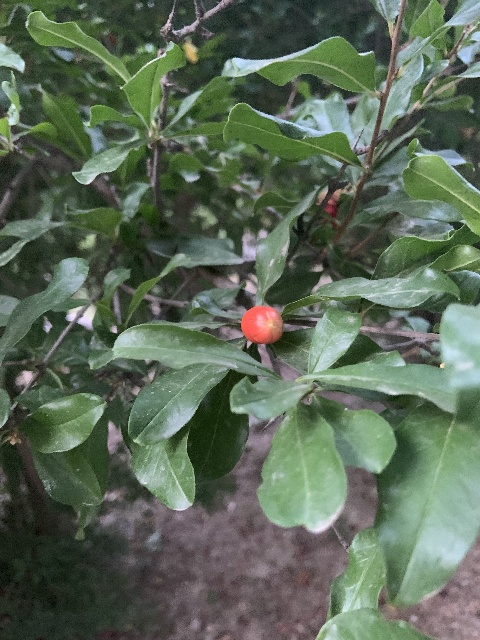bud: (240, 305, 283, 344)
